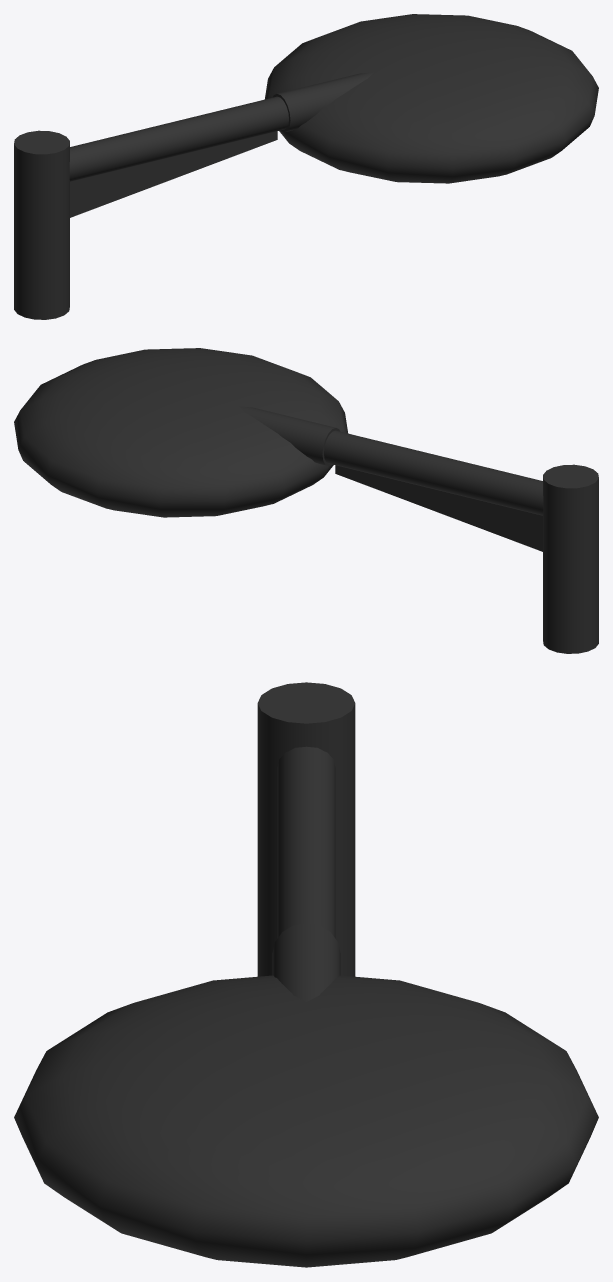
Rendered from Discera_600.glb.
The picture shows the model from 3 angles, top to bottom: view 1: azimuth 30°, elevation 25°; view 2: azimuth 150°, elevation 25°; view 3: azimuth 270°, elevation 25°; orthographic projection. The views are drawn at different scales.
Visible parts, largest first — view 1: Discera600, Cylinder.001, Cylinder.002, Cube, Cylinder.003; view 2: Discera600, Cylinder.001, Cylinder.002, Cube, Cylinder.003; view 3: Discera600, Cylinder.001, Cylinder.002, Cylinder.003.
Part boxes in pixels (x1,y1,x2,y2): Discera600: (264,14,598,183); Cylinder.001: (14,130,69,319); Cylinder.002: (69,96,288,181); Cube: (70,131,277,217); Cylinder.003: (272,72,373,132); Discera600: (14,348,348,517); Cylinder.001: (543,464,598,653); Cylinder.002: (324,430,543,515); Cube: (335,465,542,551); Cylinder.003: (239,406,340,466); Discera600: (14,975,598,1267); Cylinder.001: (257,682,355,976); Cylinder.002: (277,746,335,938); Cylinder.003: (272,923,340,1001).
Bounding box in the file's own units: 1.14 × 0.3231 × 0.5986.
Materials: 2 (2 with a texture image).
